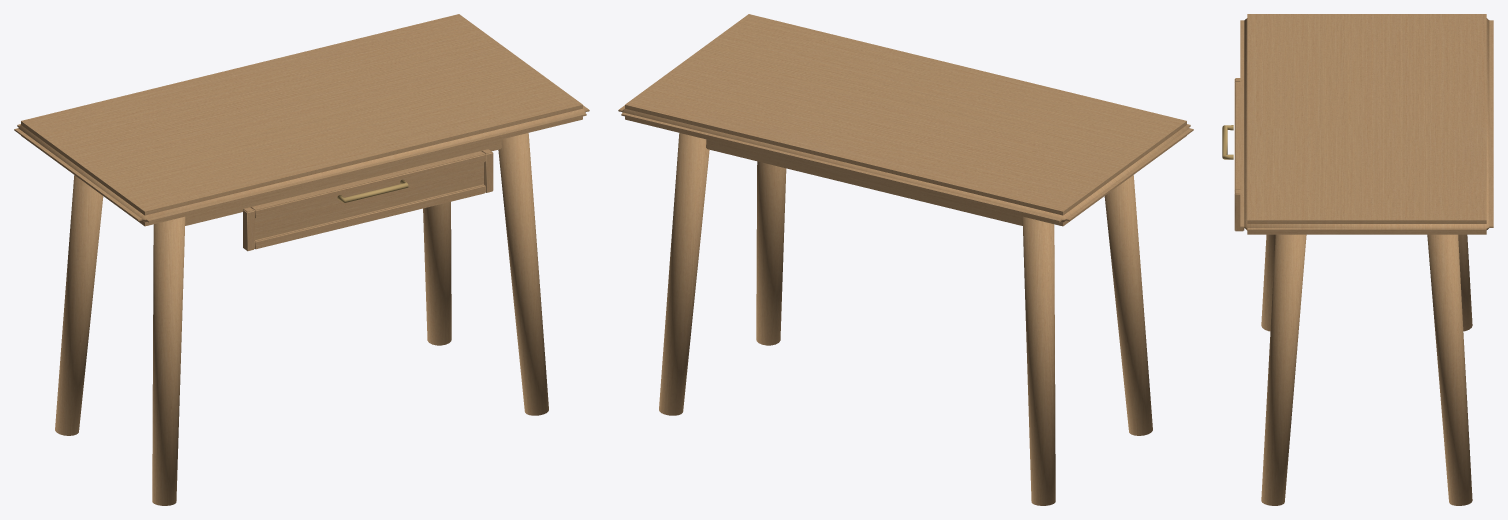
Rendered from scandinavian.desk.gltf.
3 renders of one model, left to right at view 1: azimuth 30°, elevation 25°; view 2: azimuth 150°, elevation 25°; view 3: azimuth 270°, elevation 25°, orthographic. The views are drawn at different scales.
Visible parts, largest first — view 1: scandinavian.desk.rounded-top; view 2: scandinavian.desk.rounded-top; view 3: scandinavian.desk.rounded-top.
Boxes of the visible parts, x1=… form: scandinavian.desk.rounded-top: x1=14, y1=14, x2=589, y2=505; scandinavian.desk.rounded-top: x1=618, y1=14, x2=1193, y2=505; scandinavian.desk.rounded-top: x1=1222, y1=14, x2=1493, y2=505.
Bounding box in the file's own units: 1.15 × 0.7523 × 0.621.
Materials: 2 (1 with a texture image).
